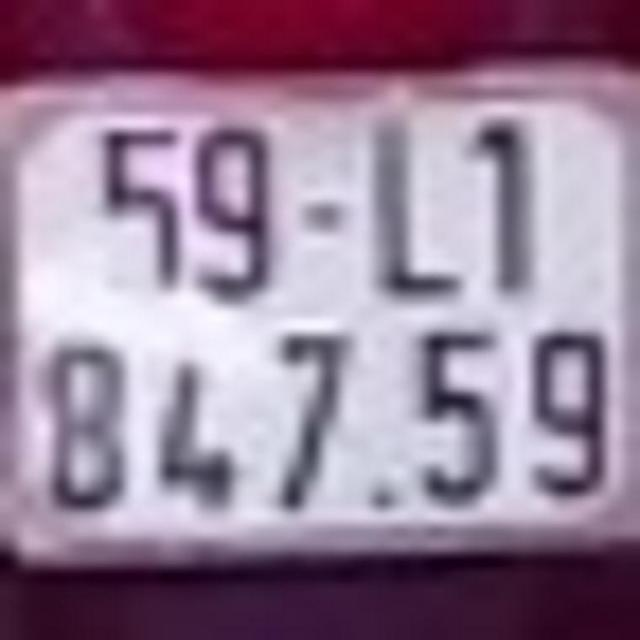1: (468, 115, 552, 306)
4: (148, 346, 244, 517)
5: (90, 121, 186, 313), (412, 322, 502, 508)
7: (264, 324, 356, 508)
8: (41, 329, 130, 514)
9: (522, 322, 612, 509), (192, 118, 276, 316)
L: (364, 106, 465, 309)
